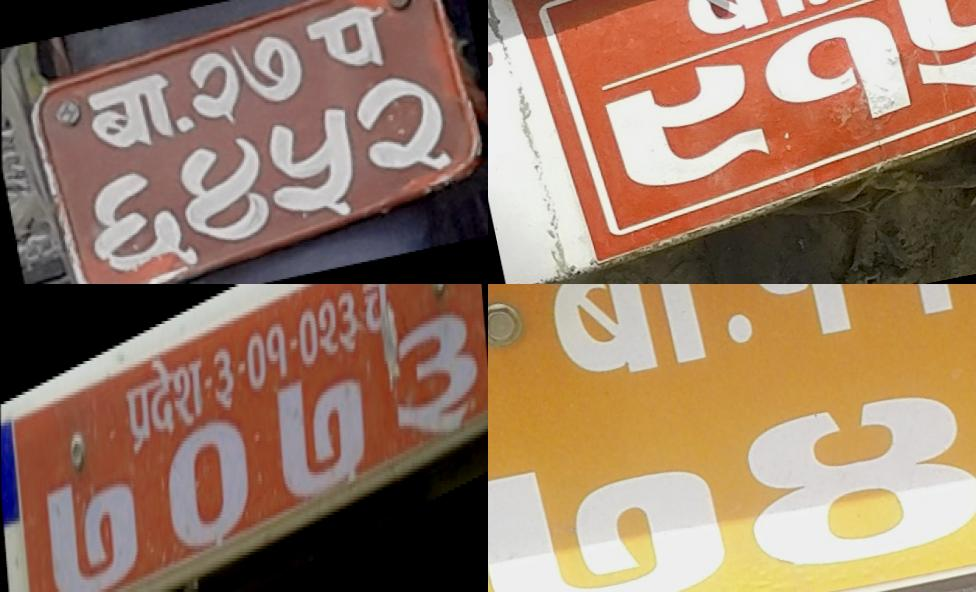0: (162, 399, 254, 572), (83, 69, 179, 158), (244, 324, 268, 398), (296, 301, 320, 375)
1: (751, 1, 923, 161), (349, 68, 453, 184), (719, 284, 871, 363), (832, 284, 969, 338), (182, 46, 246, 130), (263, 313, 291, 387)
2: (316, 294, 341, 368)
3: (388, 292, 483, 458), (210, 338, 236, 418), (336, 284, 360, 358)
4: (708, 367, 976, 588), (78, 161, 192, 279)
5: (172, 132, 276, 250), (885, 0, 976, 111)
6: (258, 102, 364, 229)
7: (488, 414, 748, 592), (269, 341, 373, 520), (36, 435, 145, 592), (228, 27, 311, 112)
8: (302, 0, 393, 81)
9: (596, 49, 779, 201)
ba: (522, 284, 734, 407), (665, 0, 837, 47)
cha: (358, 284, 394, 343)
